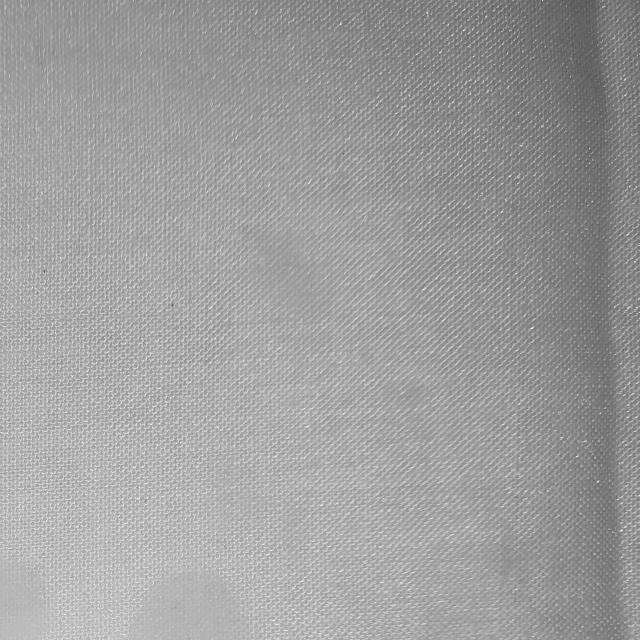Stain: (128, 571, 251, 640), (0, 562, 48, 640)
